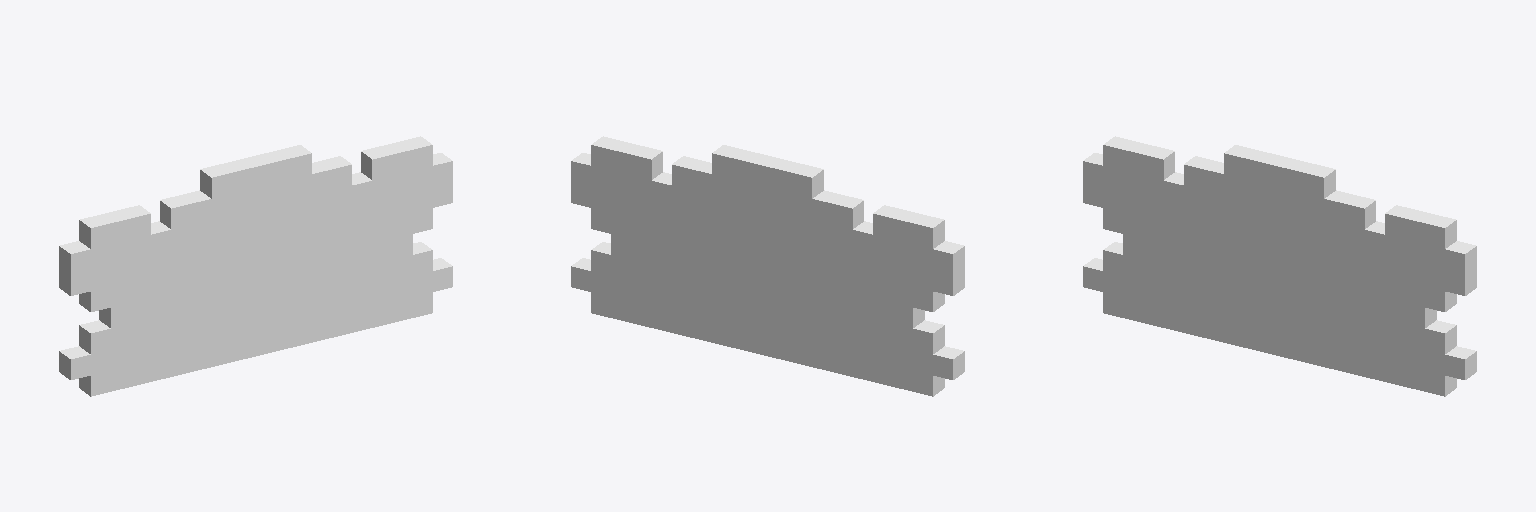
Rendered from bear death.obj.
The picture shows the model from 3 angles: view 1: azimuth 30°, elevation 25°; view 2: azimuth 150°, elevation 25°; view 3: azimuth 330°, elevation 25°; orthographic projection.
Parts seen in each view (by area): view 1: object 1; view 2: object 1; view 3: object 1.
Boxes of the visible parts, box(x1,y1,x2,y2) form: object 1: box(59, 136, 452, 396); object 1: box(571, 136, 964, 396); object 1: box(1083, 136, 1476, 396).
Bounding box in the file's own units: 1.9 × 0.9 × 0.1.